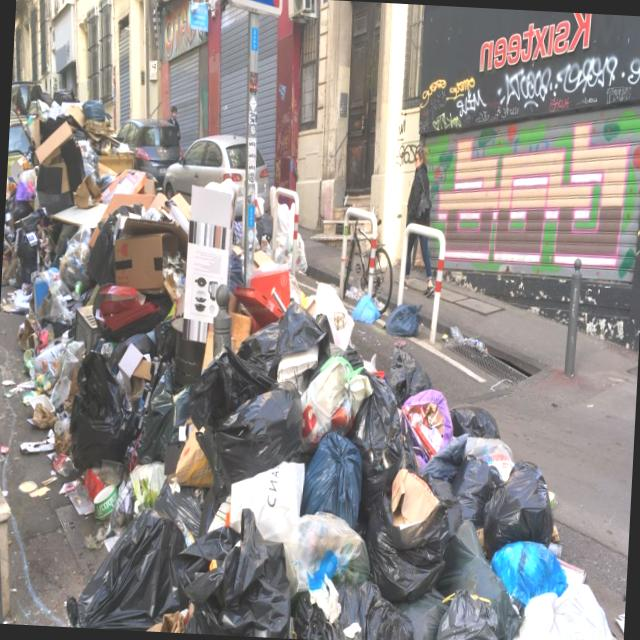garbage: (0, 195, 570, 640)
